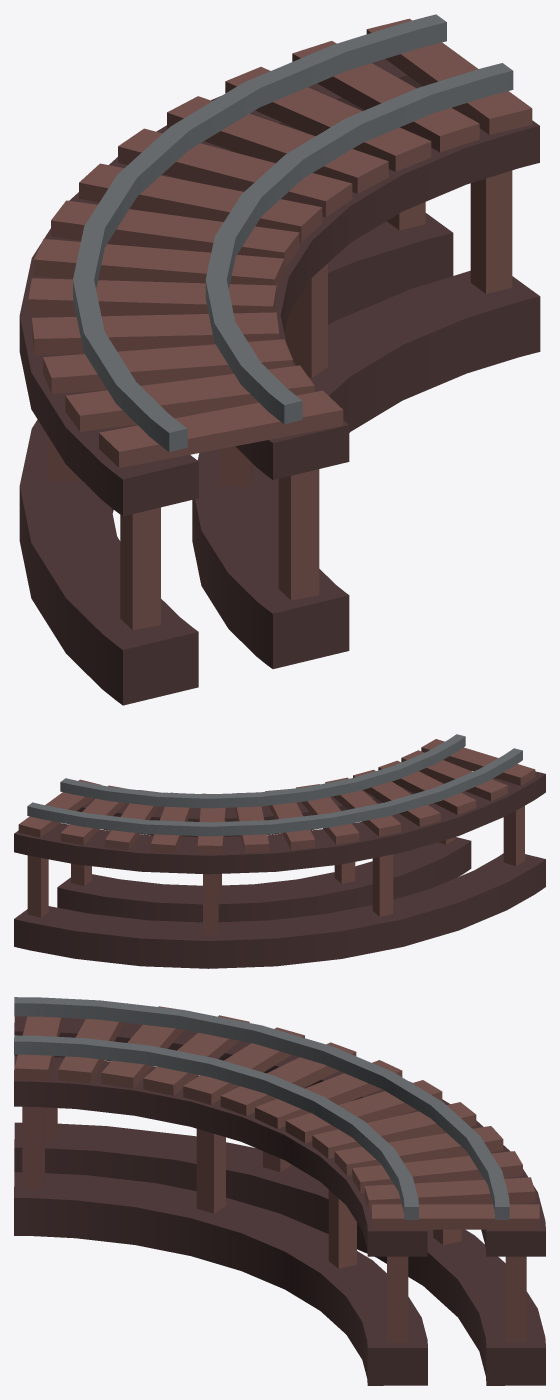
The model's file is DarkRoseWoodMechSmall0_85GaugeRightTurn1.fbx.
3 views of the same model, one above another, from view 1: azimuth 30°, elevation 25°; view 2: azimuth 150°, elevation 25°; view 3: azimuth 270°, elevation 25° (orthographic). The views are drawn at different scales.
Parts seen in each view (by area): view 1: DarkRoseWoodMechSmall0_85GaugeRightTurn1; view 2: DarkRoseWoodMechSmall0_85GaugeRightTurn1; view 3: DarkRoseWoodMechSmall0_85GaugeRightTurn1.
Part boxes in pixels (bbox=[...]): DarkRoseWoodMechSmall0_85GaugeRightTurn1: bbox=[19, 14, 540, 705]; DarkRoseWoodMechSmall0_85GaugeRightTurn1: bbox=[14, 734, 545, 968]; DarkRoseWoodMechSmall0_85GaugeRightTurn1: bbox=[14, 997, 545, 1385].
Size of the model in its own units: 598 by 221 by 596.
